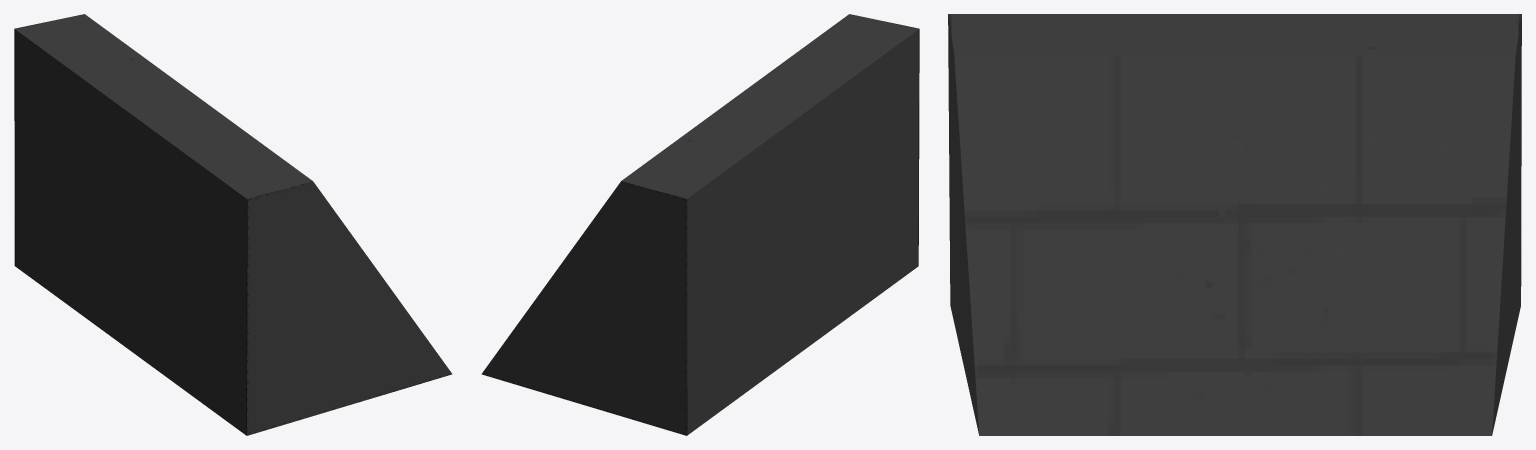
The model's file is Secret_Horizontal2.fbx.
The picture shows the model from 3 angles, left to right: view 1: azimuth 30°, elevation 25°; view 2: azimuth 150°, elevation 25°; view 3: azimuth 270°, elevation 25°; orthographic projection. The views are drawn at different scales.
Visible parts, largest first — view 1: Wall_Secret_Door_East; view 2: Wall_Secret_Door_East; view 3: Wall_Secret_Door_East.
Boxes of the visible parts, x1=… form: Wall_Secret_Door_East: x1=14, y1=14, x2=452, y2=435; Wall_Secret_Door_East: x1=481, y1=14, x2=919, y2=435; Wall_Secret_Door_East: x1=948, y1=14, x2=1521, y2=435.
Size of the model in its own units: 288 by 300 by 535.
Materials: 1 (1 with a texture image).
